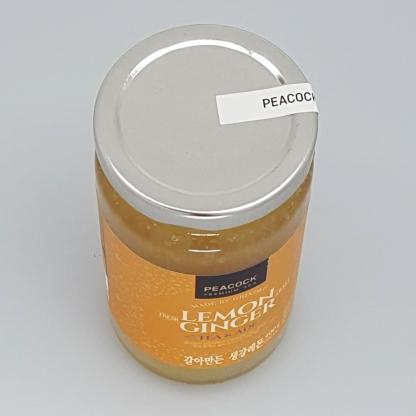--------------400G: (92, 23, 319, 385)
